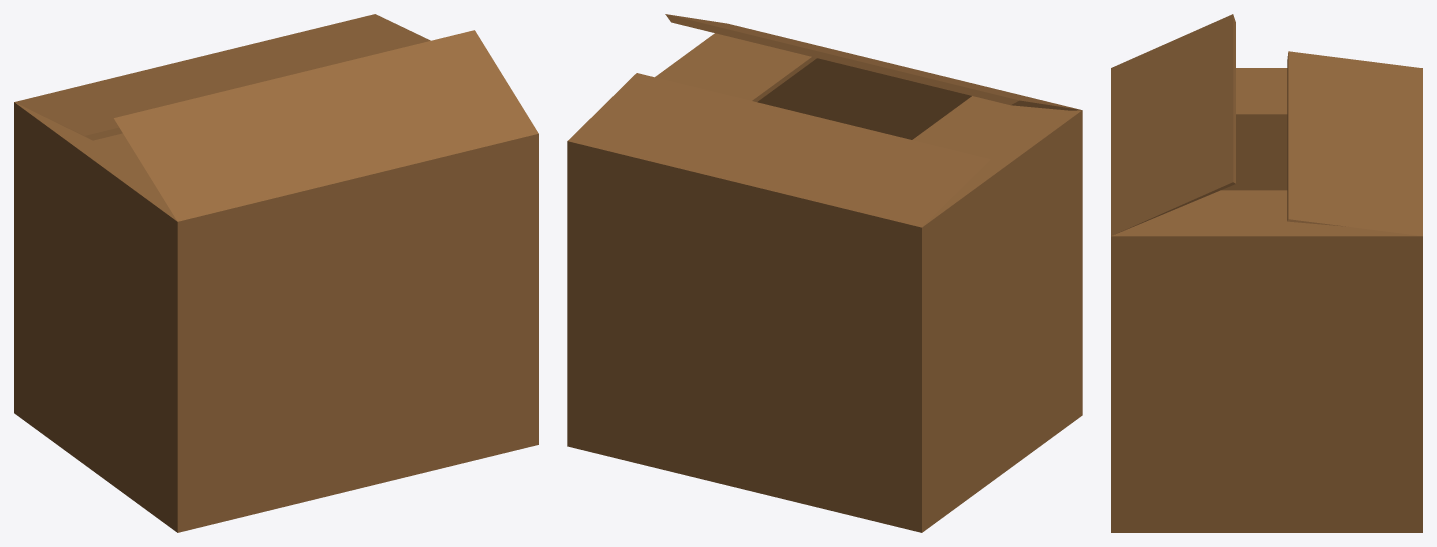
The picture shows the model from 3 angles, left to right: view 1: azimuth 30°, elevation 25°; view 2: azimuth 150°, elevation 25°; view 3: azimuth 270°, elevation 25°; orthographic projection. The views are drawn at different scales.
Parts seen in each view (by area): view 1: Box; view 2: Box; view 3: Box.
Boxes of the visible parts, <box> form: Box: <box>14,14,538,532</box>; Box: <box>567,14,1082,532</box>; Box: <box>1111,14,1422,532</box>.
Bounding box in the file's own units: 102 × 99.52 × 80.2.
